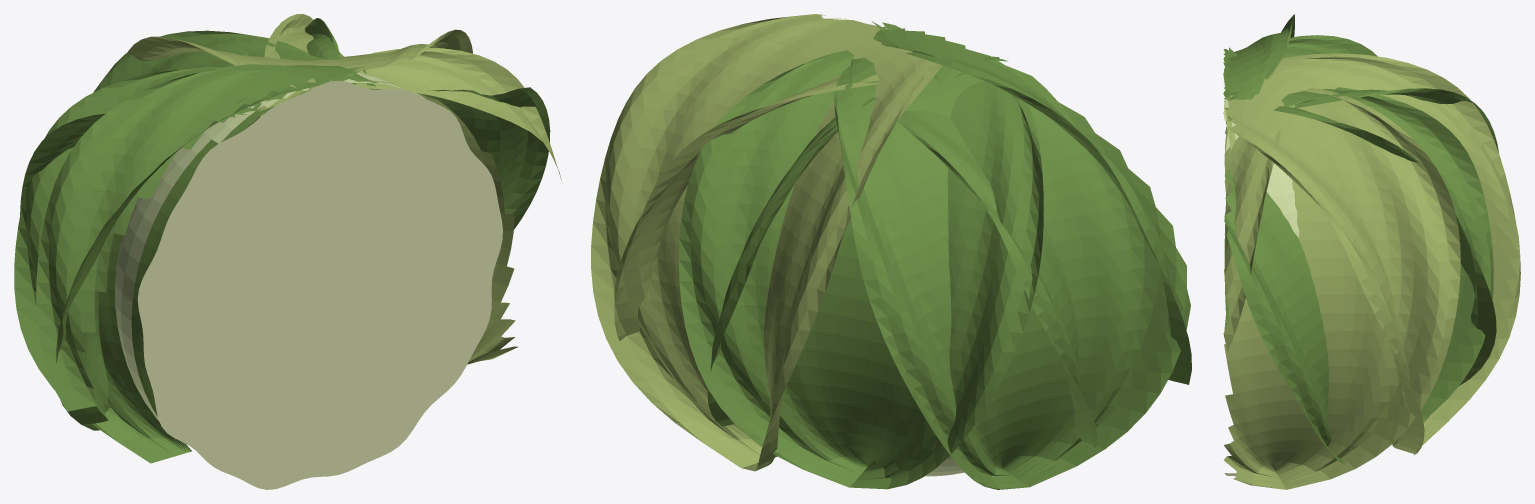
The model's file is cabbage-cut.glb.
3 views of the same model, side by side, from view 1: azimuth 30°, elevation 25°; view 2: azimuth 150°, elevation 25°; view 3: azimuth 270°, elevation 25° (orthographic). The views are drawn at different scales.
Visible parts, largest first — view 1: cabbage-cut, leaf (×8), cabbage-core; view 2: leaf (×7); view 3: leaf (×7), cabbage-core.
Boxes of the visible parts, box(x1,y1,x2,y2) form: cabbage-cut: box(137, 80, 502, 489); leaf (×8): box(14, 14, 561, 463); cabbage-core: box(114, 72, 424, 439); leaf (×7): box(591, 14, 1191, 489); leaf (×7): box(1223, 14, 1520, 489); cabbage-core: box(1223, 81, 1299, 476).
Bounding box in the file's own units: 1.83 × 1.37 × 0.973.
